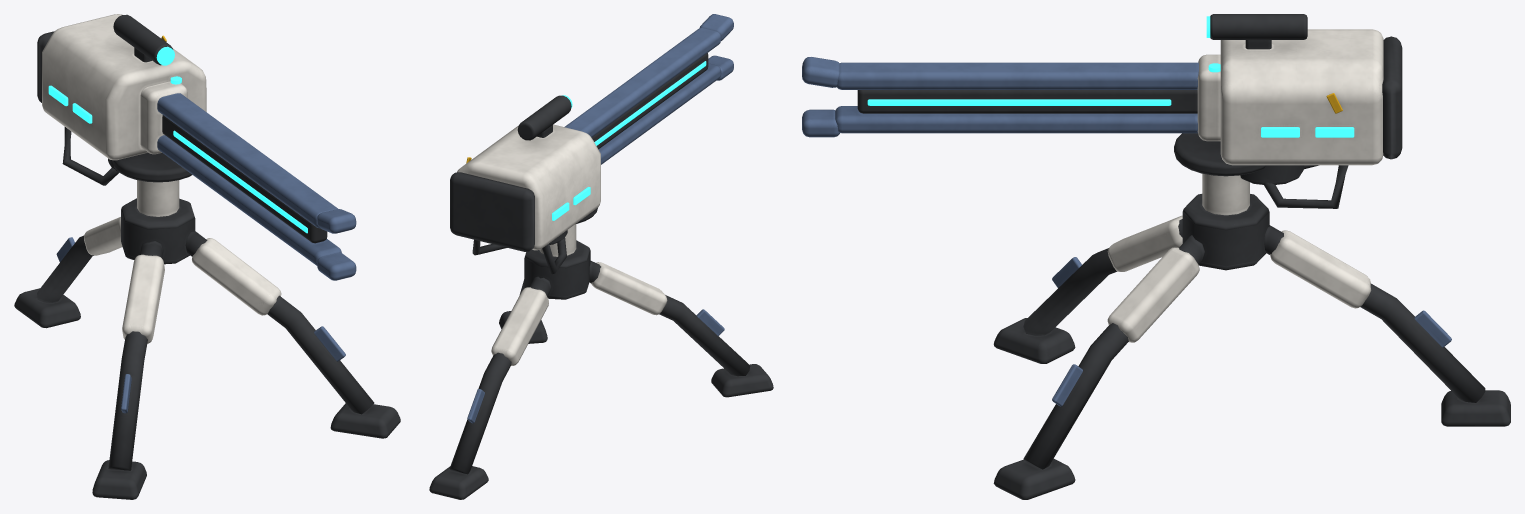
The model's file is needle_polar_ceramic.glb.
3 views of the same model, side by side, from view 1: azimuth 30°, elevation 25°; view 2: azimuth 150°, elevation 25°; view 3: azimuth 270°, elevation 25° (orthographic). The views are drawn at different scales.
Visible parts, largest first — view 1: Needle_Head, Needle_Base; view 2: Needle_Head, Needle_Base; view 3: Needle_Head, Needle_Base.
Part boxes in pixels (x1,y1,x2,y2): Needle_Head: (37, 14, 356, 280); Needle_Base: (14, 152, 400, 499); Needle_Head: (450, 14, 733, 274); Needle_Base: (429, 208, 773, 499); Needle_Head: (802, 14, 1402, 208); Needle_Base: (993, 133, 1510, 499).
Bounding box in the file's own units: 1.84 × 2.04 × 3.26.
Materials: 5 (4 with a texture image).
